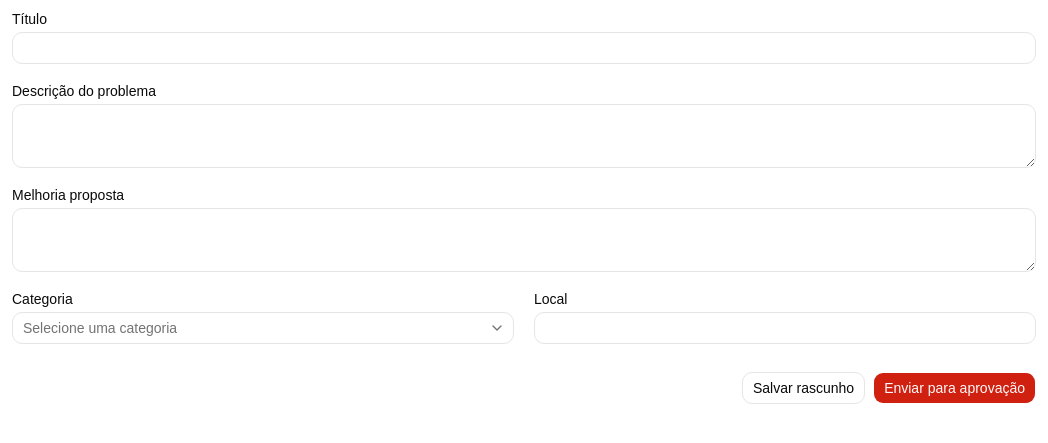
Test: SolicitationForm › bloqueia o salvamento de rascunho sem título
This screenshot has width=1048, height=443.
Click the button "Salvar rascunho": (804, 388) [742,372,865,404]
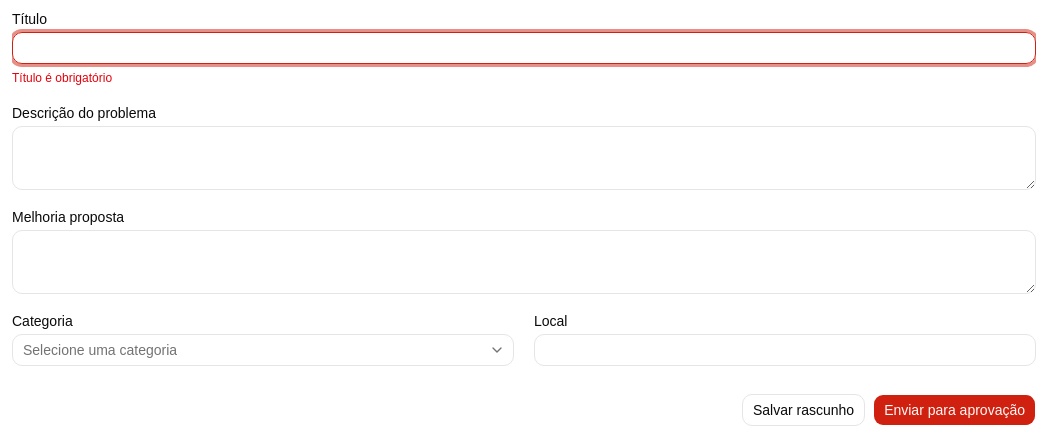
Expected: the text "Título é obrigatório" is shown, [12,71,112,85]
